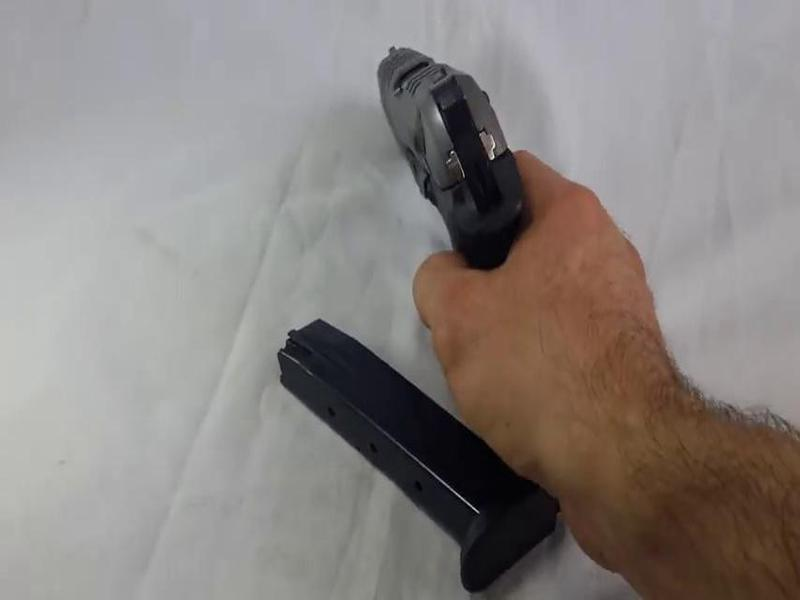Pistola: (352, 28, 571, 291)
